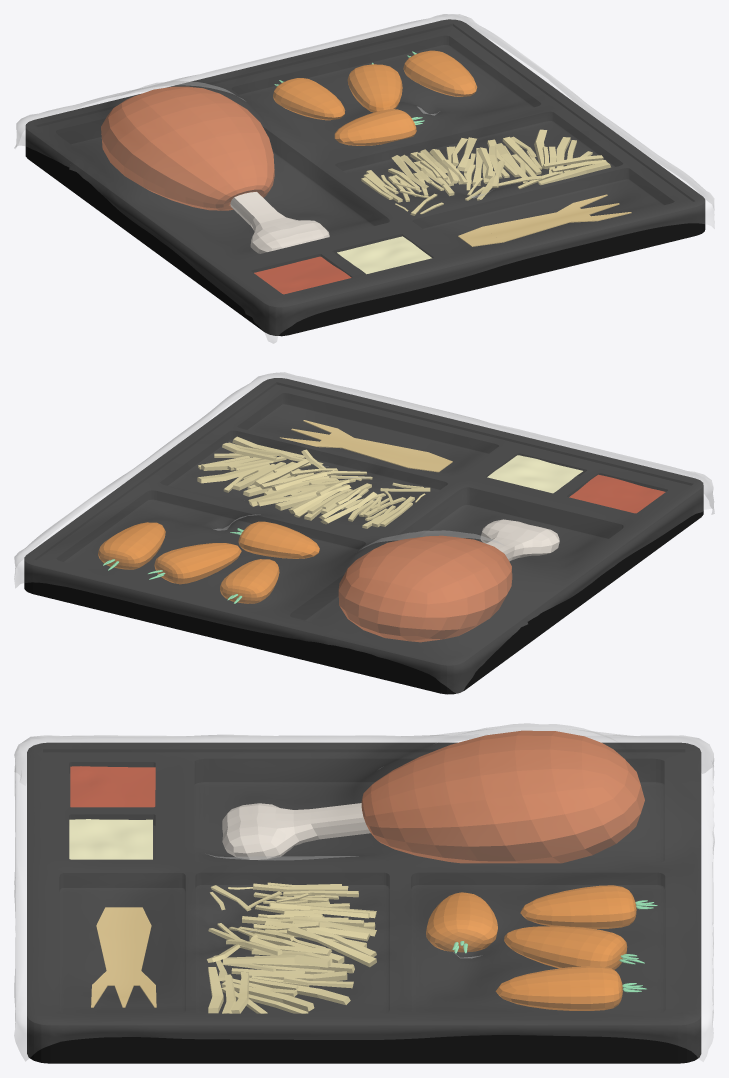
The model's file is chickenLunch.glb.
The picture shows the model from 3 angles, top to bottom: view 1: azimuth 30°, elevation 25°; view 2: azimuth 150°, elevation 25°; view 3: azimuth 270°, elevation 25°; orthographic projection. The views are drawn at different scales.
Visible parts, largest first — view 1: baked; view 2: baked; view 3: baked.
Boxes of the visible parts, x1,y1,x2,y2 form: baked: (14, 14, 714, 343); baked: (14, 372, 714, 694); baked: (14, 723, 714, 1063).
Bounding box in the file's own units: 2 × 0.4 × 2.
